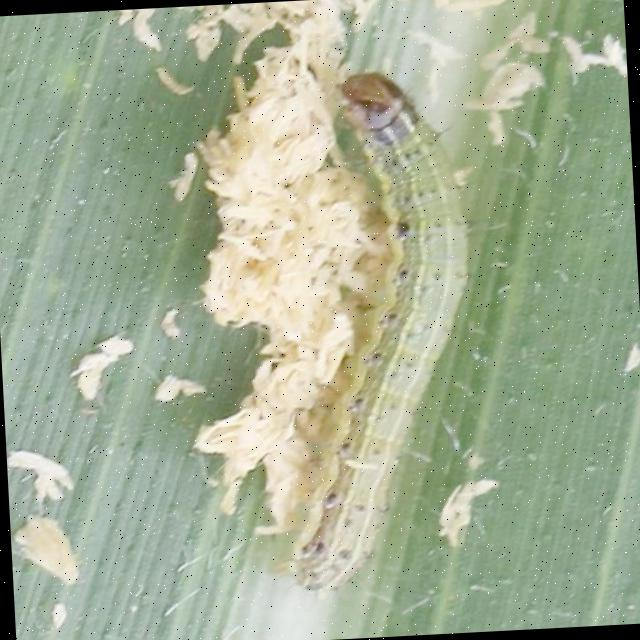worm: (254, 69, 493, 602)
